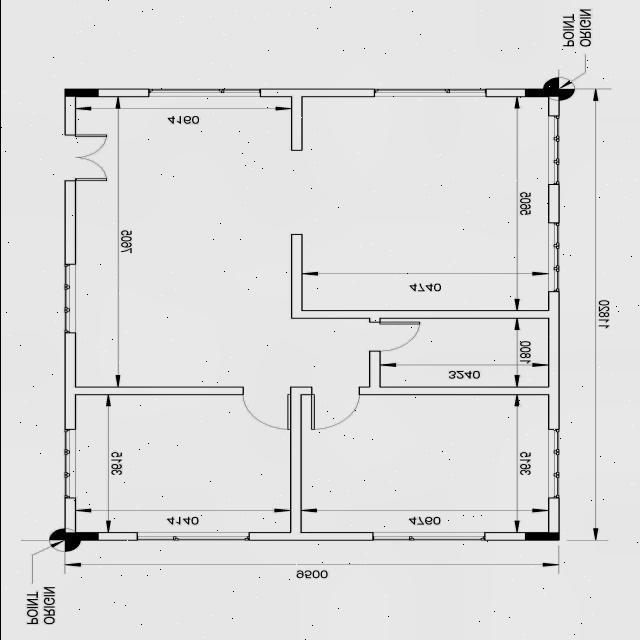Column: (60, 532, 98, 542), (62, 88, 100, 98), (524, 531, 556, 541), (524, 89, 558, 97)
Door: (306, 388, 364, 437), (235, 390, 291, 434), (372, 320, 422, 358)
Double-Door: (62, 130, 116, 190)
Window: (362, 80, 496, 104), (369, 526, 494, 546), (134, 527, 252, 548), (56, 258, 84, 344), (58, 421, 82, 504), (144, 84, 264, 100), (542, 424, 564, 504), (544, 222, 566, 296), (544, 113, 562, 187)
